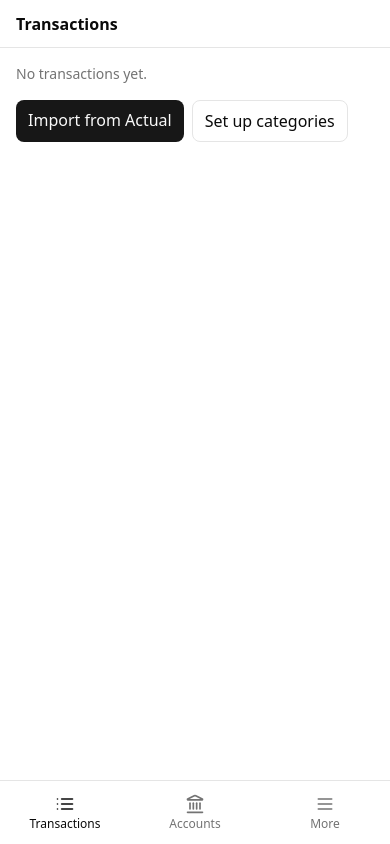
Test case: the app shell › moves between screens from the tabs
Click the link "Accounts": (195, 812) 169,794 -> 221,832
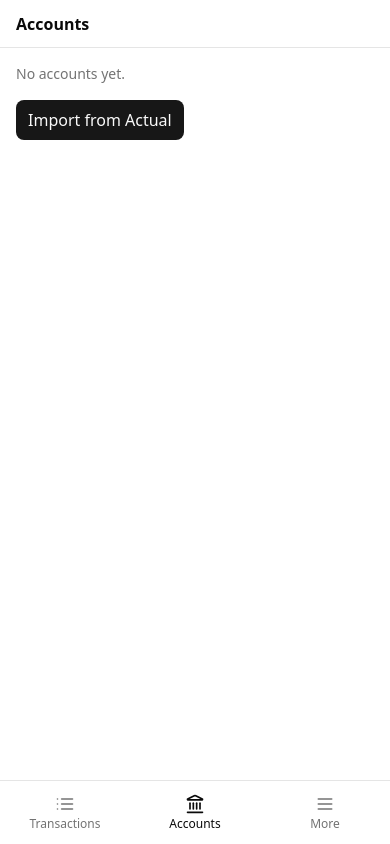
Expected: the heading "Accounts" is shown, 16,12 -> 89,36
